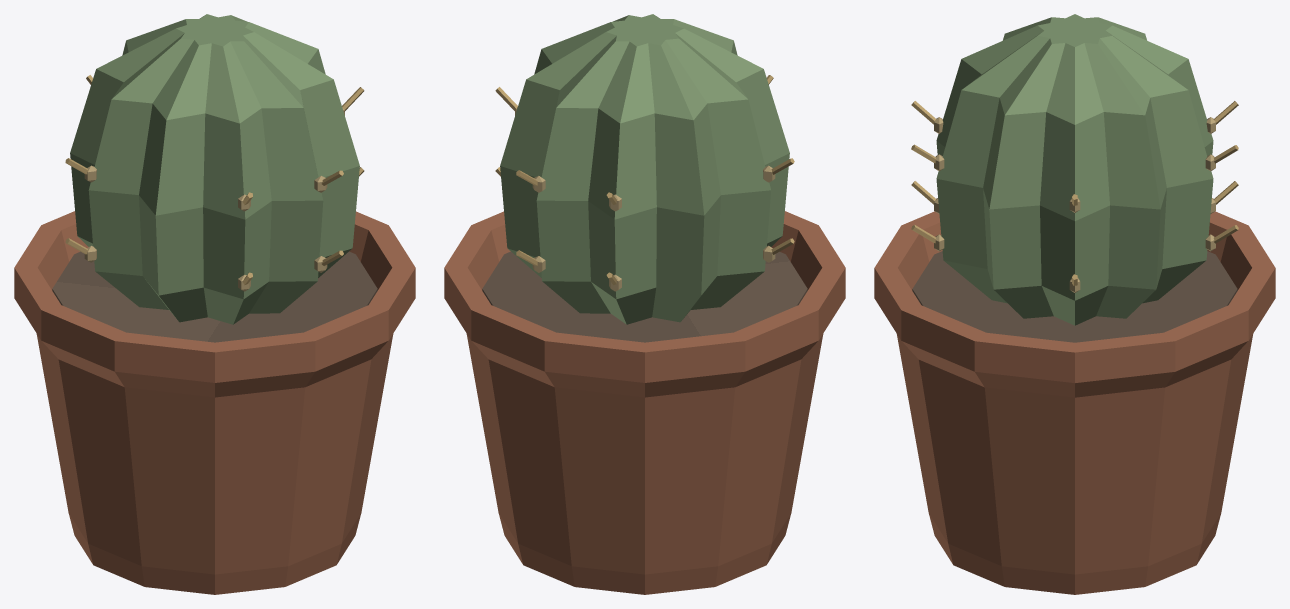
File: new-subdenudata.glb
3 renders of one model, left to right at view 1: azimuth 30°, elevation 25°; view 2: azimuth 150°, elevation 25°; view 3: azimuth 270°, elevation 25°, orthographic.
Visible parts, largest first — view 1: new-subdenudata/review-terra-vessel, new-subdenudata/ribbed-stem-001, new-subdenudata/review-rooted-soil; view 2: new-subdenudata/review-terra-vessel, new-subdenudata/ribbed-stem-001, new-subdenudata/review-rooted-soil; view 3: new-subdenudata/review-terra-vessel, new-subdenudata/ribbed-stem-001, new-subdenudata/review-rooted-soil.
Boxes of the visible parts, bbox=[...] form: new-subdenudata/review-terra-vessel: bbox=[14, 211, 415, 594]; new-subdenudata/ribbed-stem-001: bbox=[70, 14, 359, 324]; new-subdenudata/review-rooted-soil: bbox=[52, 251, 377, 342]; new-subdenudata/review-terra-vessel: bbox=[444, 211, 845, 594]; new-subdenudata/ribbed-stem-001: bbox=[500, 14, 789, 324]; new-subdenudata/review-rooted-soil: bbox=[482, 251, 807, 342]; new-subdenudata/review-terra-vessel: bbox=[874, 211, 1275, 594]; new-subdenudata/ribbed-stem-001: bbox=[936, 14, 1213, 325]; new-subdenudata/review-rooted-soil: bbox=[912, 251, 1237, 342].
Size of the model in its own units: 0.19 by 0.264 by 0.19.
5 materials, 5 textured.
